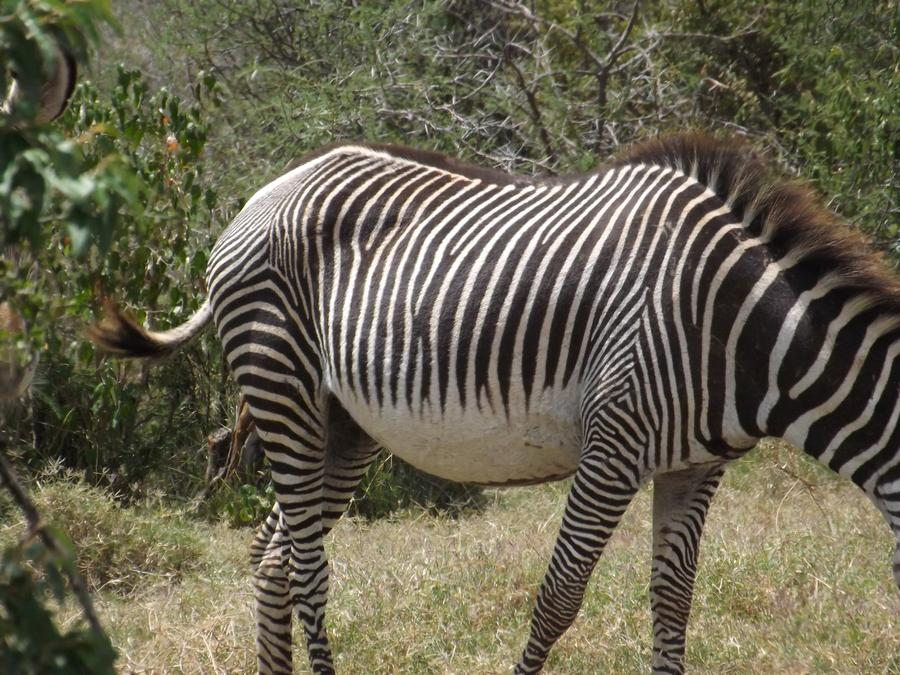zebra_grevys: (196, 118, 706, 467)
